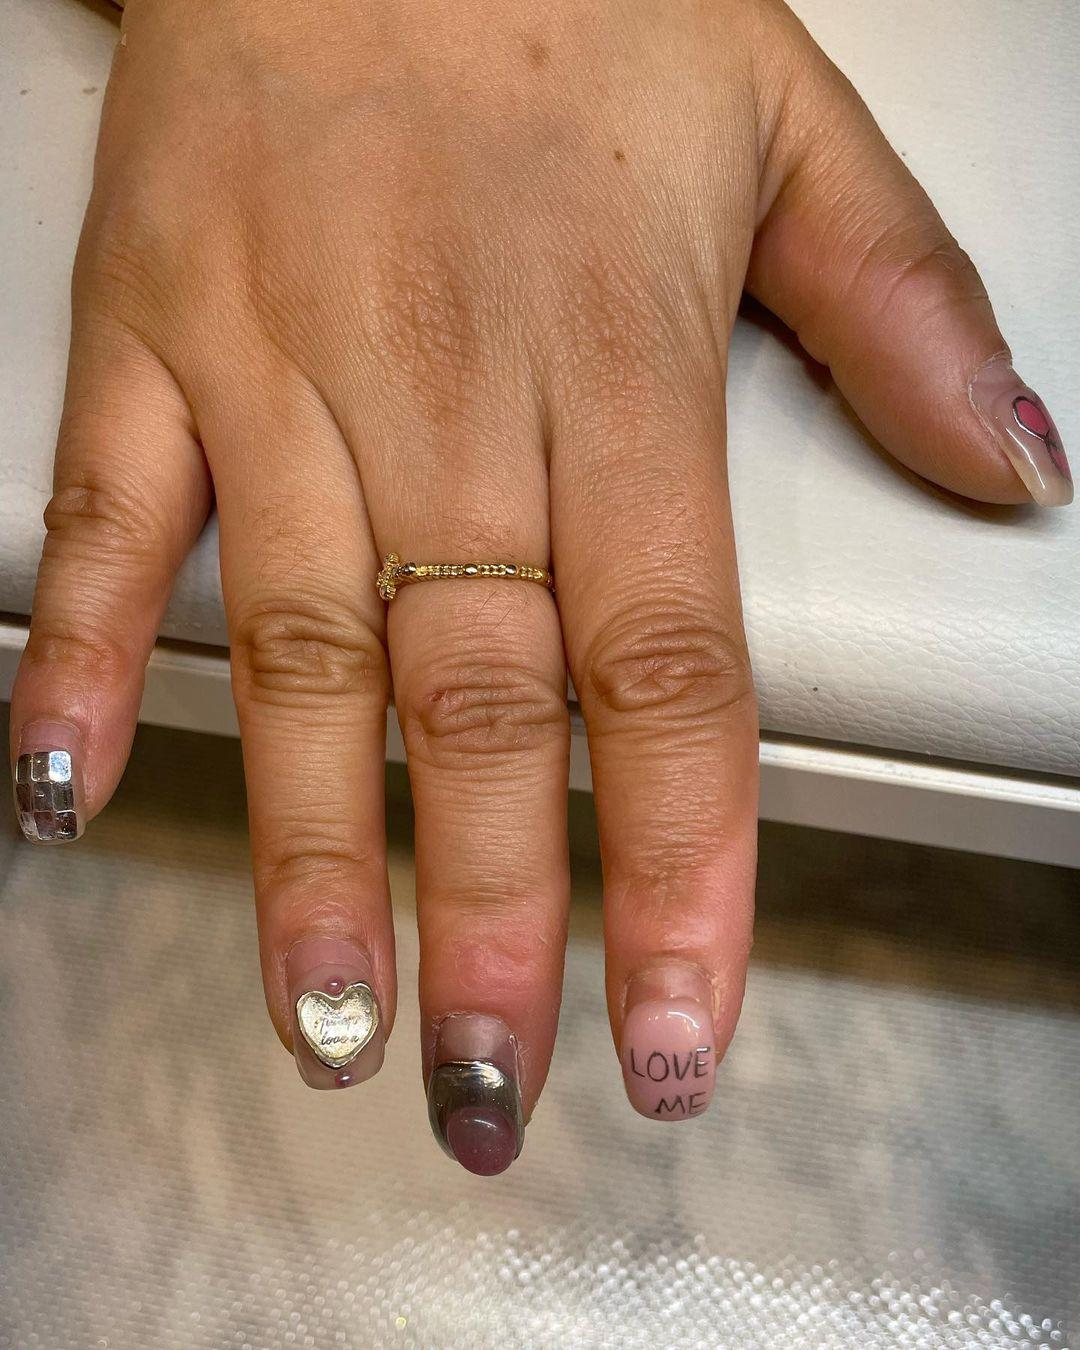nail: (425, 1009, 526, 1176), (617, 958, 717, 1122), (966, 357, 1073, 508), (283, 933, 382, 1073), (11, 717, 85, 845)
